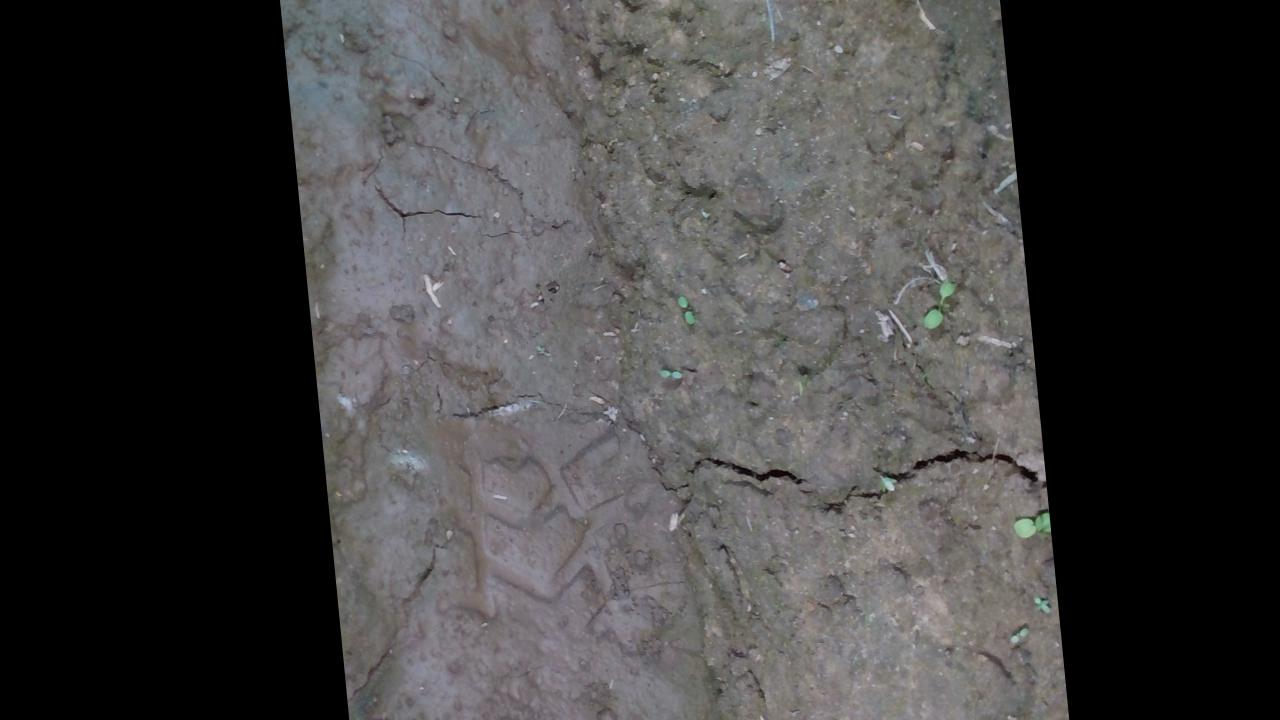weed: (661, 281, 689, 333), (646, 367, 675, 387)
